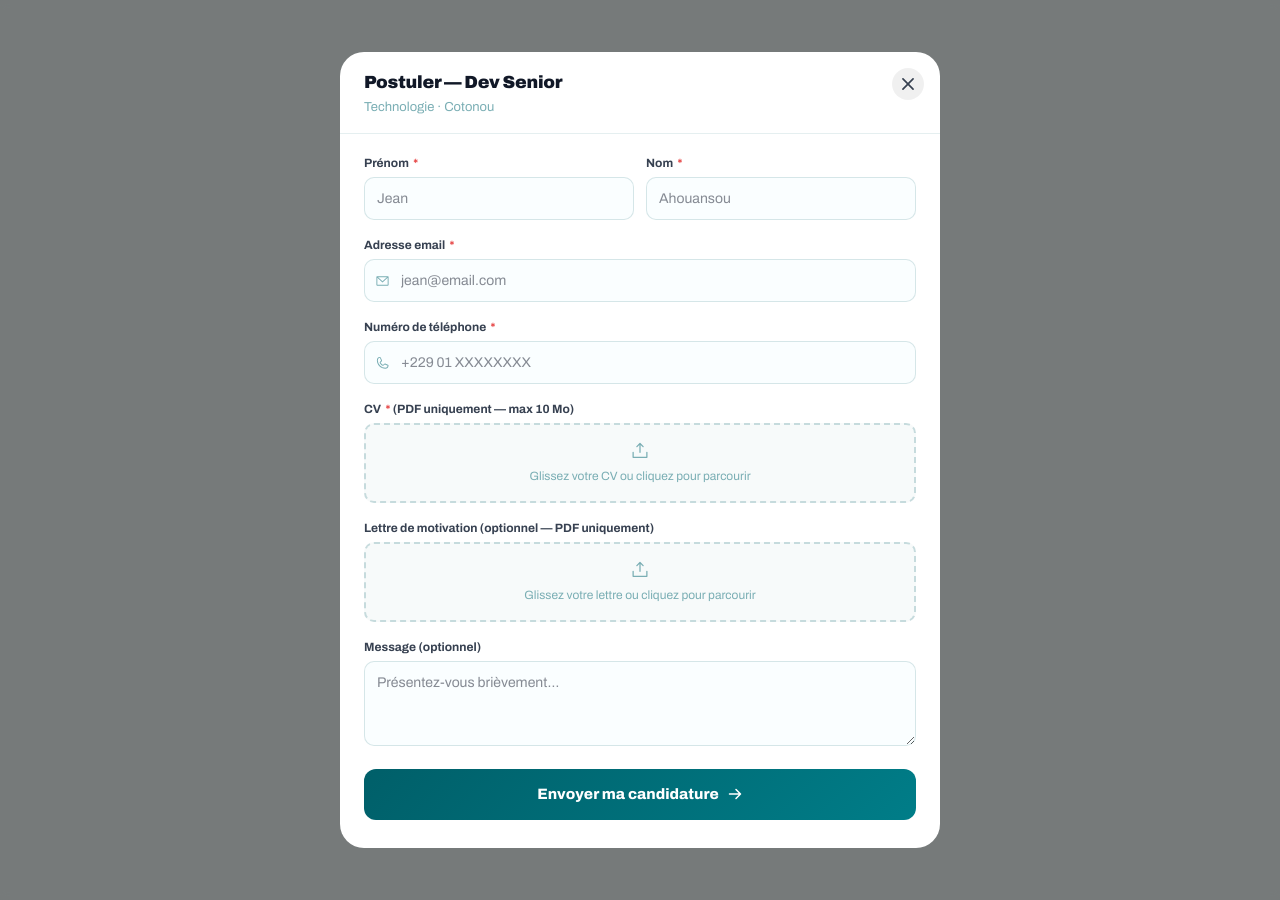
Test: ApplicationModal — validation › valide le format email
This screenshot has width=1280, height=900.
Type "invalid-email" into the field with placeholder "jean@email.com" at (640, 280), box top-left (364, 259), bottom-right (916, 302)
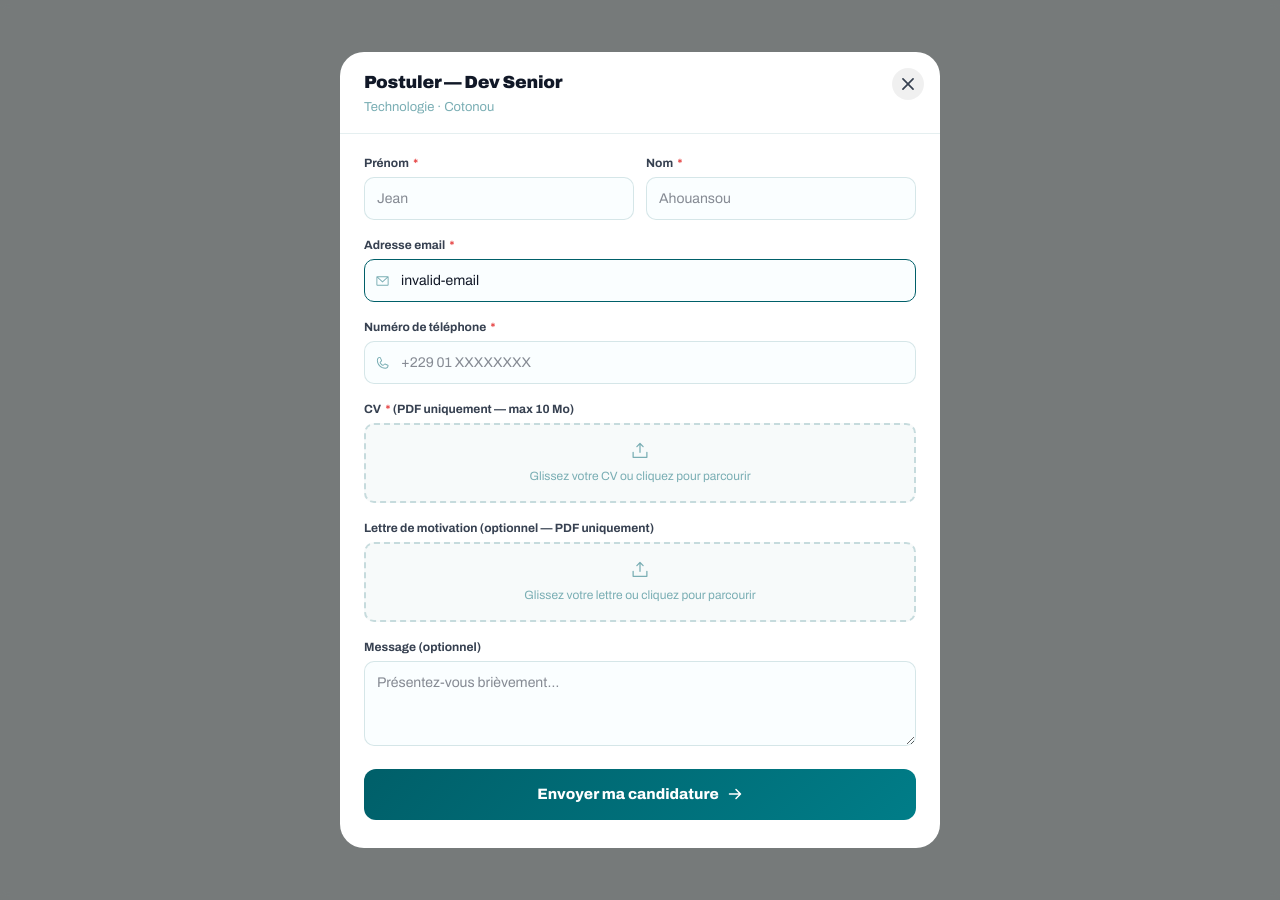
Click the button "Envoyer ma candidature" at (640, 794), box top-left (364, 769), bottom-right (916, 820)
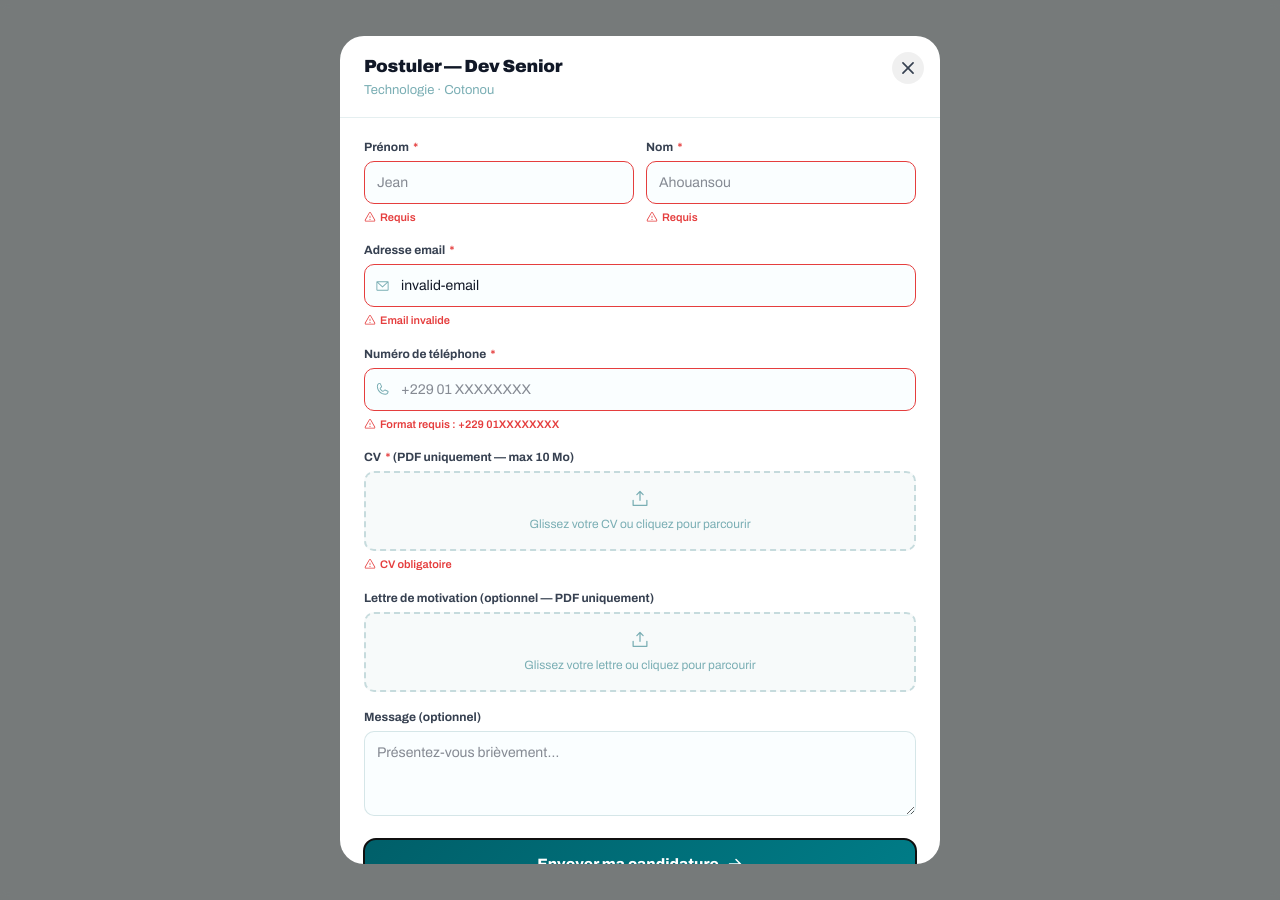
Now the text "Email invalide" is shown, box top-left (364, 314), bottom-right (450, 326)
